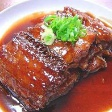hongshaodaiyu: (1, 7, 112, 110)
